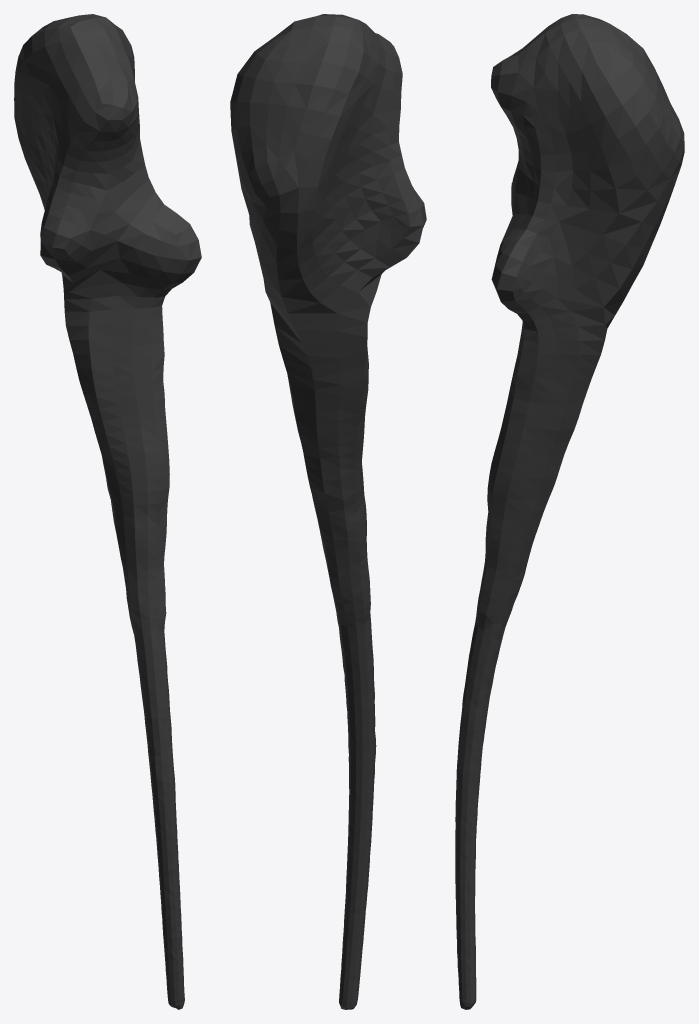
File: LFL_ulna.glb
3 views of the same model, side by side, from view 1: azimuth 30°, elevation 25°; view 2: azimuth 150°, elevation 25°; view 3: azimuth 270°, elevation 25° (orthographic). The views are drawn at different scales.
Parts seen in each view (by area): view 1: LFL_ulna; view 2: LFL_ulna; view 3: LFL_ulna.
Part boxes in pixels (bbox=[...]): LFL_ulna: bbox=[14, 14, 201, 1009]; LFL_ulna: bbox=[230, 14, 426, 1009]; LFL_ulna: bbox=[455, 14, 684, 1009].
Size of the model in its own units: 9.16 by 58 by 12.46.
Materials: 1 (1 with a texture image).
